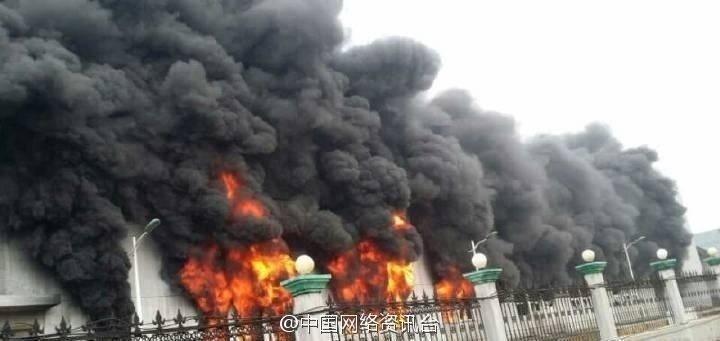fire: (177, 176, 299, 331), (329, 217, 417, 311), (434, 266, 474, 302)
